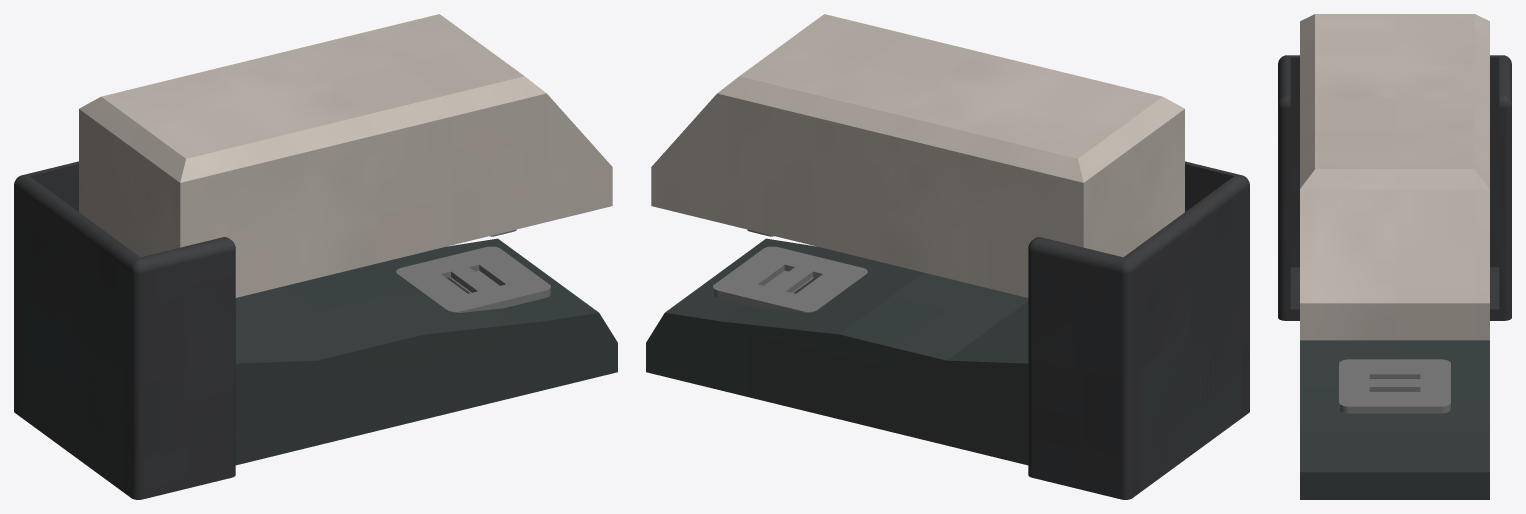
Rendered from Handtools_Stapler__0131.glb.
The picture shows the model from 3 angles, left to right: view 1: azimuth 30°, elevation 25°; view 2: azimuth 150°, elevation 25°; view 3: azimuth 270°, elevation 25°; orthographic projection. The views are drawn at different scales.
Visible parts, largest first — view 1: top_arm::arm_shell, base::base_body, base::rear_housing, base::anvil_plate; view 2: top_arm::arm_shell, base::base_body, base::rear_housing, base::anvil_plate; view 3: top_arm::arm_shell, base::base_body, base::rear_housing, base::anvil_plate.
Boxes of the visible parts, x1=… form: top_arm::arm_shell: x1=79, y1=14, x2=612, y2=297; base::base_body: x1=22, y1=238, x2=617, y2=492; base::rear_housing: x1=14, y1=161, x2=235, y2=499; base::anvil_plate: x1=396, y1=246, x2=550, y2=312; top_arm::arm_shell: x1=651, y1=14, x2=1184, y2=297; base::base_body: x1=646, y1=238, x2=1241, y2=492; base::rear_housing: x1=1028, y1=161, x2=1249, y2=499; base::anvil_plate: x1=713, y1=246, x2=867, y2=312; top_arm::arm_shell: x1=1300, y1=14, x2=1489, y2=340; base::base_body: x1=1300, y1=340, x2=1489, y2=499; base::rear_housing: x1=1278, y1=55, x2=1511, y2=320; base::anvil_plate: x1=1339, y1=359, x2=1450, y2=413.
Size of the model in its own units: 0.1054 by 0.0638 by 0.046.
5 materials, 4 textured.
